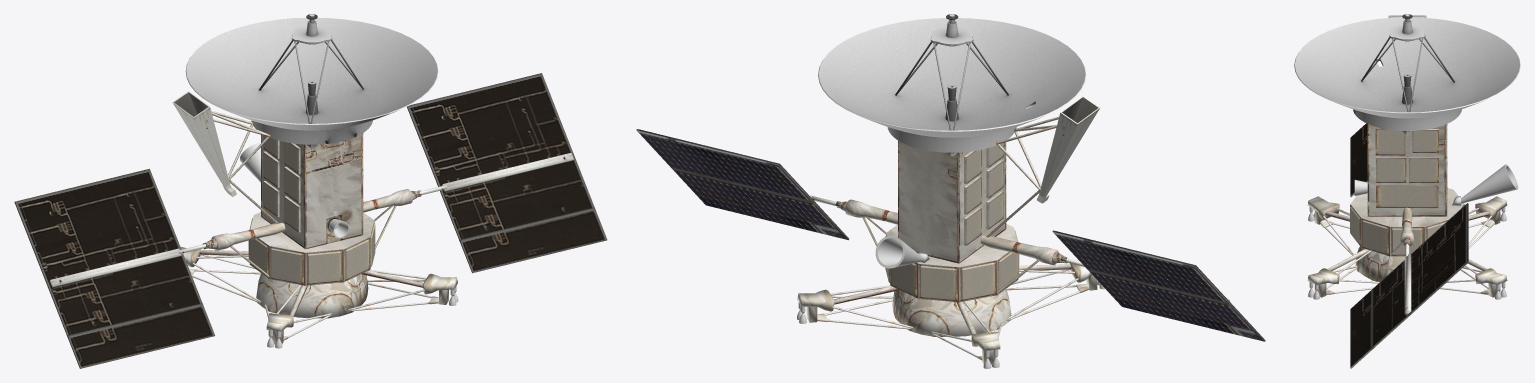
The model's file is Magellan.glb.
3 views of the same model, side by side, from view 1: azimuth 30°, elevation 25°; view 2: azimuth 150°, elevation 25°; view 3: azimuth 270°, elevation 25° (orthographic). The views are drawn at different scales.
Visible parts, largest first — view 1: tex_01, dish_etc, aluminum.002, aluminum; view 2: tex_01, dish_etc, shiny_panel, aluminum; view 3: tex_01, dish_etc, aluminum, aluminum.002.
Boxes of the visible parts, box(x1,y1,x2,y2) form: tex_01: box(14, 73, 607, 368); dish_etc: box(185, 14, 438, 148); aluminum.002: box(267, 219, 458, 348); aluminum: box(240, 143, 260, 182); tex_01: box(636, 96, 1265, 364); dish_etc: box(818, 14, 1086, 156); shiny_panel: box(637, 130, 1264, 341); aluminum: box(875, 235, 922, 268); tex_01: box(1307, 15, 1507, 368); dish_etc: box(1294, 14, 1520, 134); aluminum: box(1461, 164, 1518, 203); aluminum.002: box(1308, 180, 1506, 299).
Size of the model in its own units: 8.9 by 4.53 by 3.7.
Materials: 5 (3 with a texture image).
